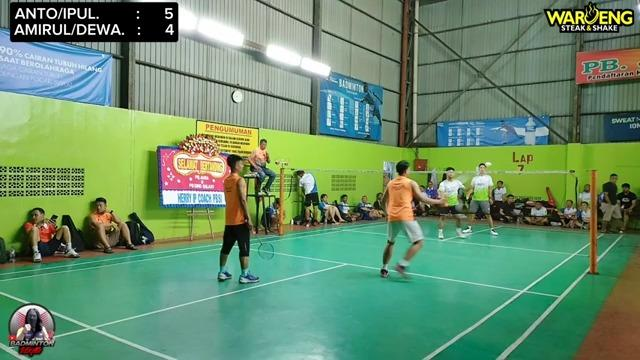Shuttlecock: (483, 160, 492, 170)
